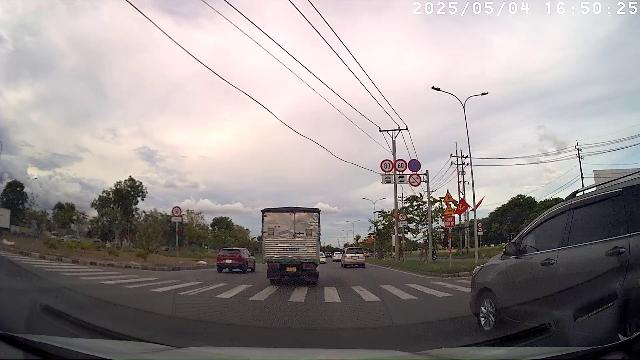127-toc-do-toi-da-50: (171, 206, 182, 216), (398, 212, 407, 222)
127-toc-do-toi-da-60: (394, 159, 408, 172)
127-toc-do-toi-da-80: (380, 159, 393, 172)
130-cam-dung-va-do-xe: (408, 159, 421, 172)
